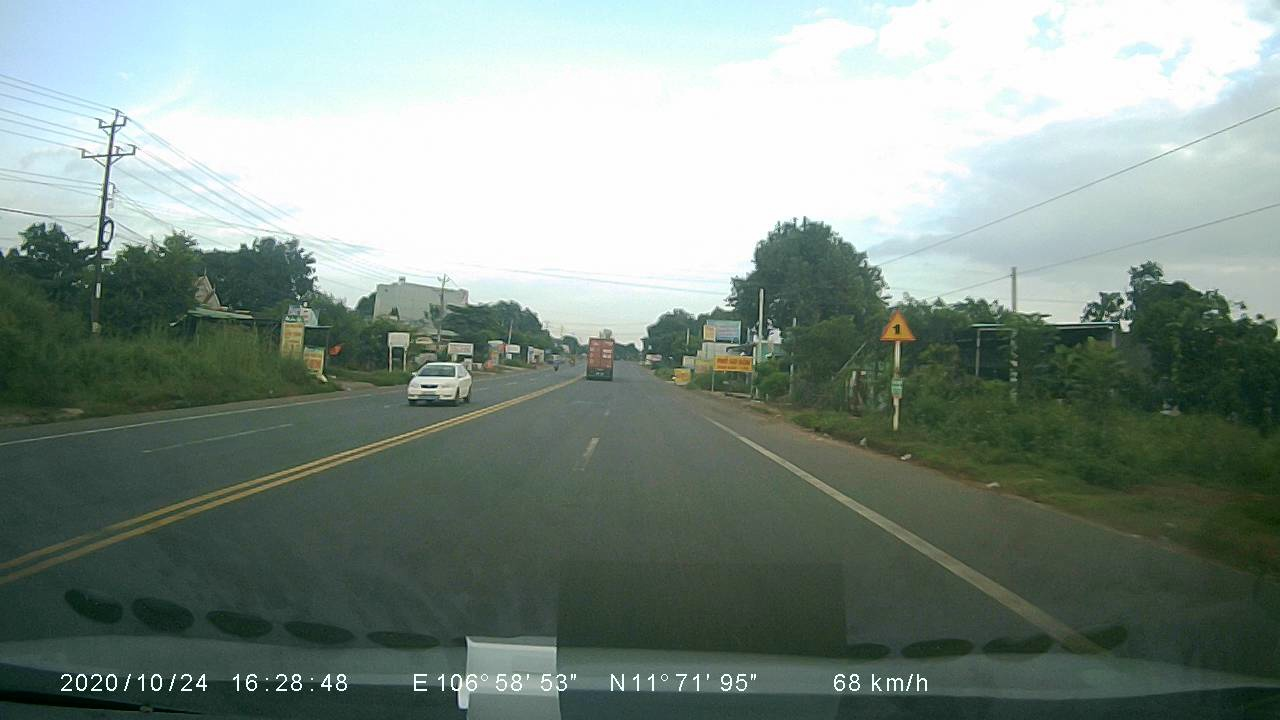Giao nhau voi duong khong uu tien: (879, 306, 918, 343)
